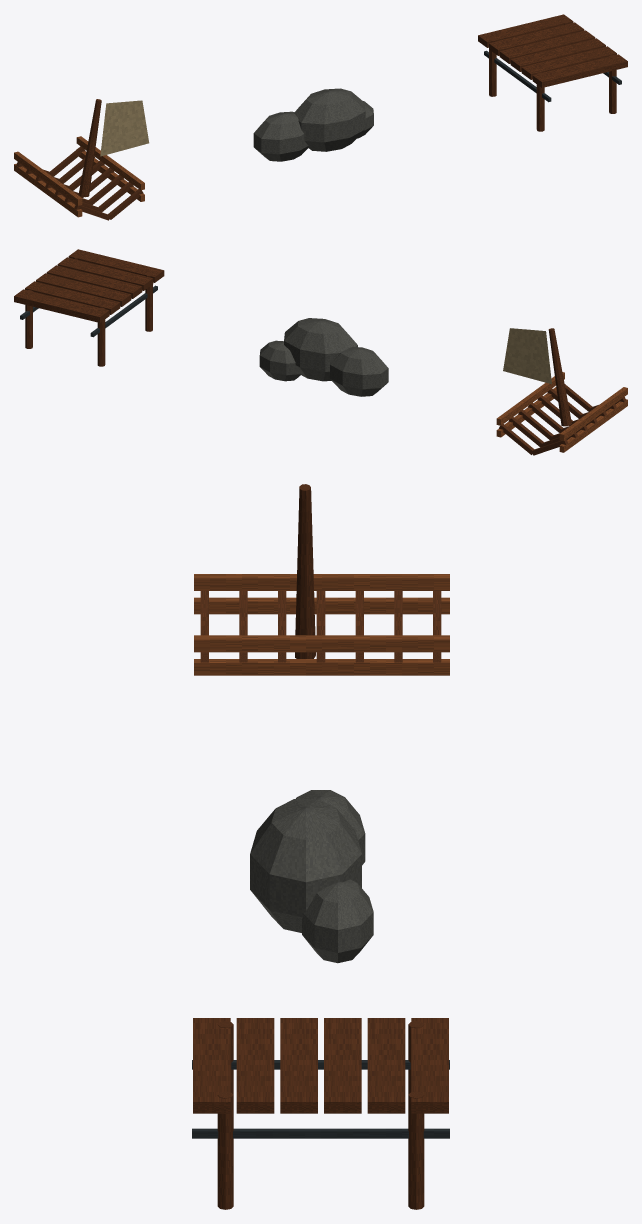
The model's file is KIT_armada_tender_wreck_cove.gltf.
3 renders of one model, top to bottom at view 1: azimuth 30°, elevation 25°; view 2: azimuth 150°, elevation 25°; view 3: azimuth 270°, elevation 25°, orthographic. The views are drawn at different scales.
Parts seen in each view (by area): view 1: 03_pier, 01_wreck, 02_rock; view 2: 03_pier, 01_wreck, 02_rock; view 3: 03_pier, 01_wreck, 02_rock.
Part boxes in pixels (x1=…): 03_pier: x1=478, y1=14, x2=627, y2=131; 01_wreck: x1=14, y1=99, x2=149, y2=220; 02_rock: x1=253, y1=88, x2=373, y2=161; 03_pier: x1=14, y1=249, x2=164, y2=366; 01_wreck: x1=496, y1=328, x2=627, y2=455; 02_rock: x1=259, y1=318, x2=388, y2=396; 03_pier: x1=192, y1=1018, x2=449, y2=1209; 01_wreck: x1=194, y1=484, x2=449, y2=675; 02_rock: x1=250, y1=790, x2=373, y2=963.
Bounding box in the file's own units: 12.78 × 2.64 × 2.6.
Materials: 6 (6 with a texture image).
